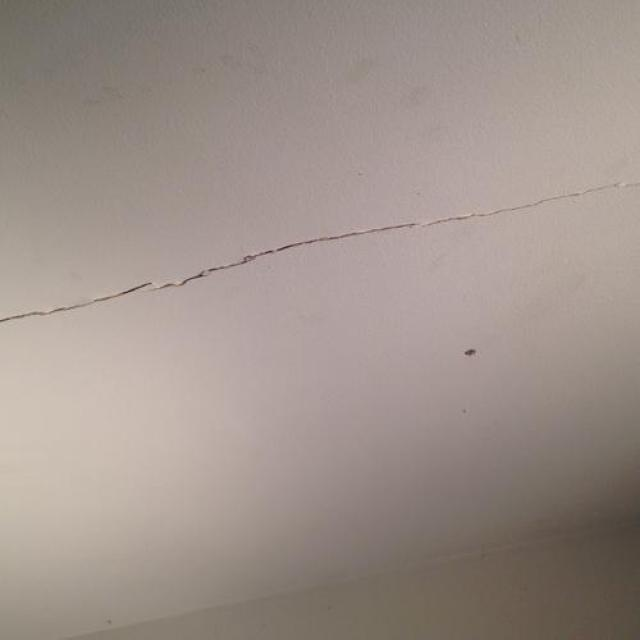crack: (2, 218, 426, 321), (421, 179, 638, 228)
